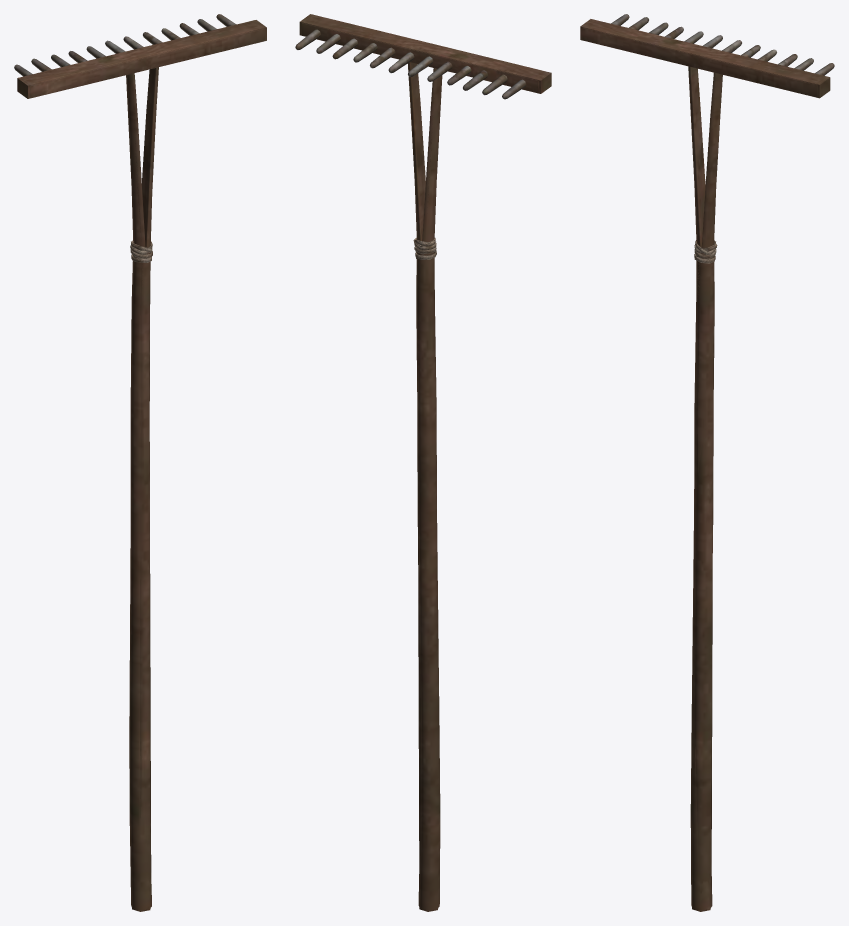
Rendered from Rake.glb.
3 renders of one model, left to right at view 1: azimuth 30°, elevation 25°; view 2: azimuth 150°, elevation 25°; view 3: azimuth 330°, elevation 25°, orthographic.
Visible parts, largest first — view 1: Rake; view 2: Rake; view 3: Rake.
Boxes of the visible parts, left/top/right/bottom form: Rake: left=14, top=14, right=266, bottom=911; Rake: left=295, top=14, right=551, bottom=911; Rake: left=580, top=14, right=834, bottom=911.
Size of the model in its own units: 0.5187 by 1.77 by 0.1236.
2 materials, 2 textured.
